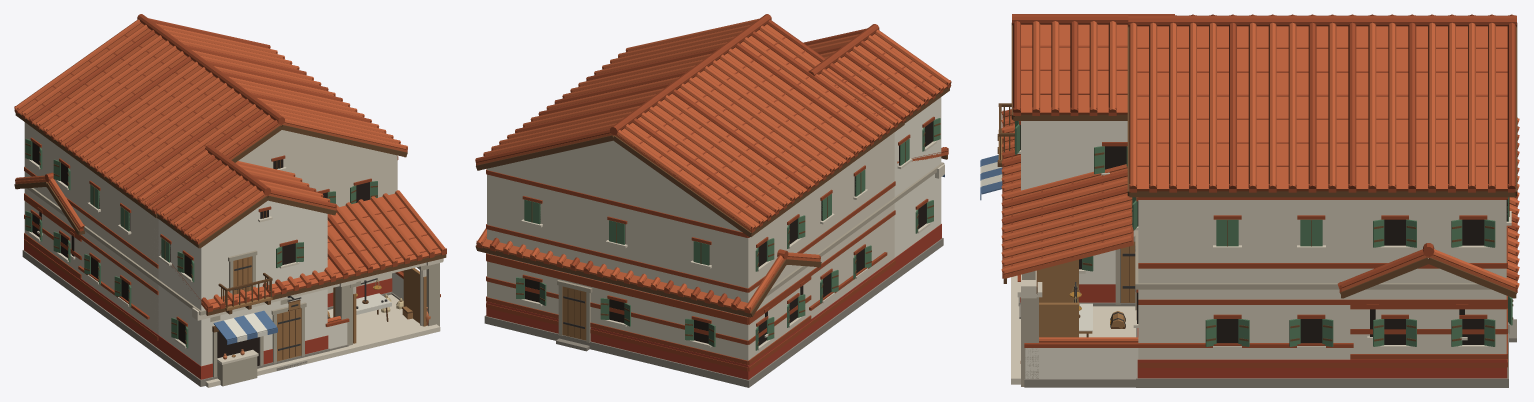
File: Kontor.fbx
The picture shows the model from 3 angles, left to right: view 1: azimuth 30°, elevation 25°; view 2: azimuth 150°, elevation 25°; view 3: azimuth 270°, elevation 25°; orthographic projection. The views are drawn at different scales.
Visible parts, largest first — view 1: Kontor_0, Kontor_1; view 2: Kontor_0, Kontor_1; view 3: Kontor_0, Kontor_1.
Boxes of the visible parts, x1,y1,x2,y2 form: Kontor_0: [14, 14, 446, 387]; Kontor_1: [14, 144, 443, 386]; Kontor_0: [475, 14, 948, 387]; Kontor_1: [475, 24, 951, 385]; Kontor_0: [1001, 14, 1517, 387]; Kontor_1: [980, 14, 1519, 387].
Bounding box in the file's own units: 3.63 × 2.88 × 4.83.
